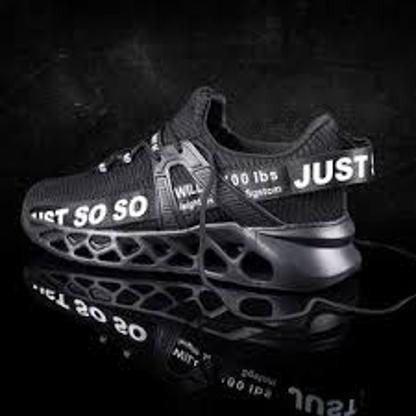not trash: (18, 90, 382, 296)
